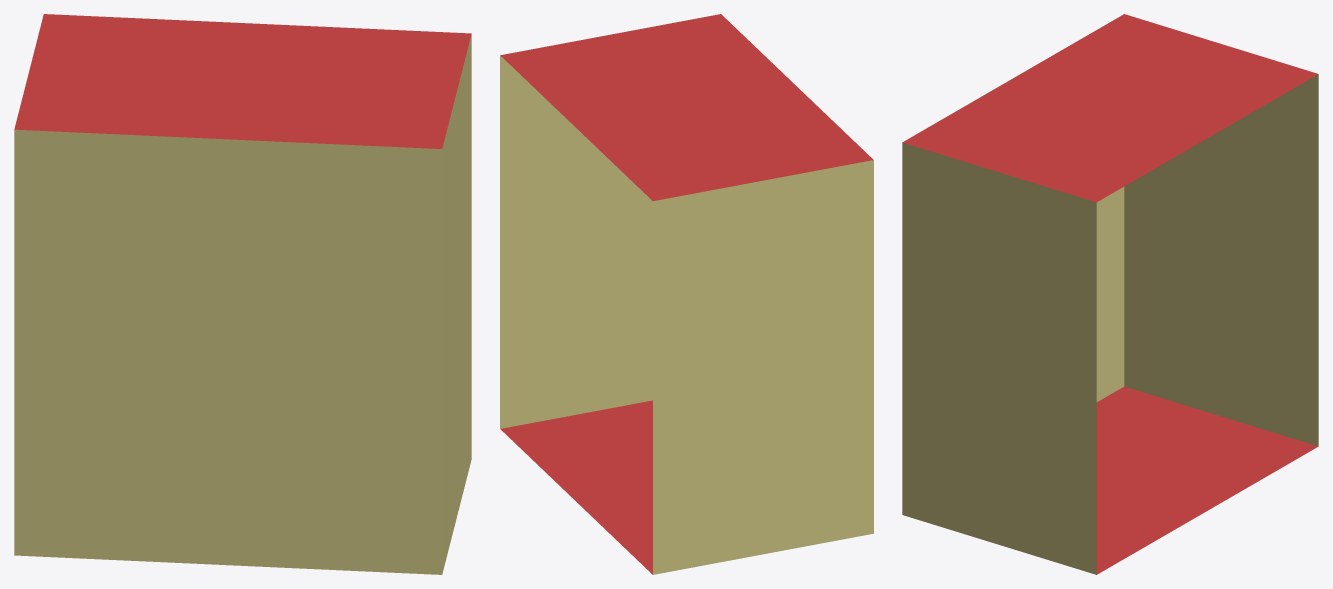
3 renders of one model, left to right at view 1: azimuth 30°, elevation 25°; view 2: azimuth 150°, elevation 25°; view 3: azimuth 270°, elevation 25°, orthographic. The views are drawn at different scales.
Visible parts, largest first — view 1: group_4, group_3; view 2: group_4, group_3, group_5; view 3: group_4, group_3, group_5.
Part boxes in pixels (x1=…): group_4: x1=14, y1=34, x2=471, y2=574; group_3: x1=14, y1=14, x2=471, y2=148; group_4: x1=500, y1=55, x2=873, y2=574; group_3: x1=500, y1=14, x2=873, y2=200; group_5: x1=500, y1=400, x2=652, y2=574; group_4: x1=902, y1=74, x2=1318, y2=574; group_3: x1=902, y1=14, x2=1317, y2=202; group_5: x1=1096, y1=386, x2=1318, y2=574.
Bounding box in the file's own units: 8.26 × 7.72 × 7.62.
